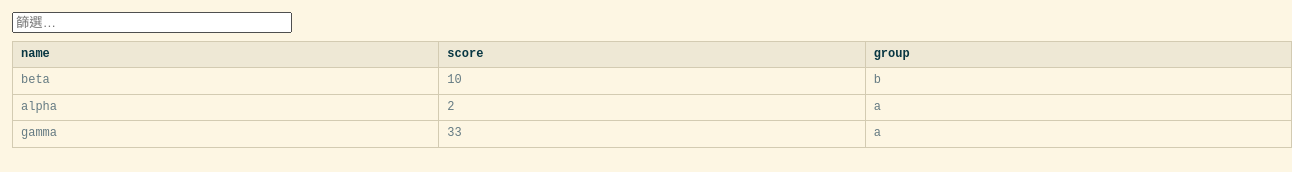
it: DataTable 篩選 › says so when nothing matches instead of showing an empty table
The width and height of the screenshot is (1292, 172).
Type "找不到的東西" into the field with class "filter-input" at (152,22), box 12,12 -> 292,33
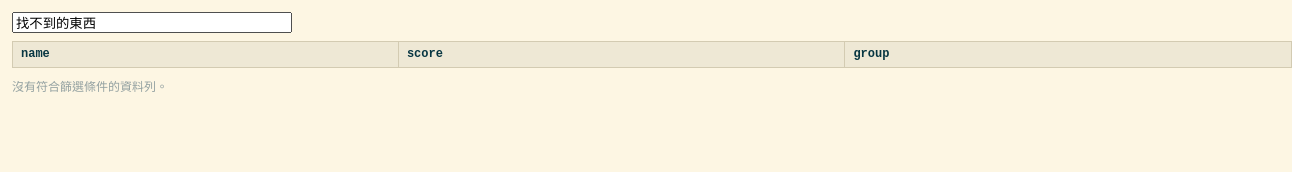
Check: the text "沒有符合篩選條件的資料列" is shown, box 12,81 -> 168,95
